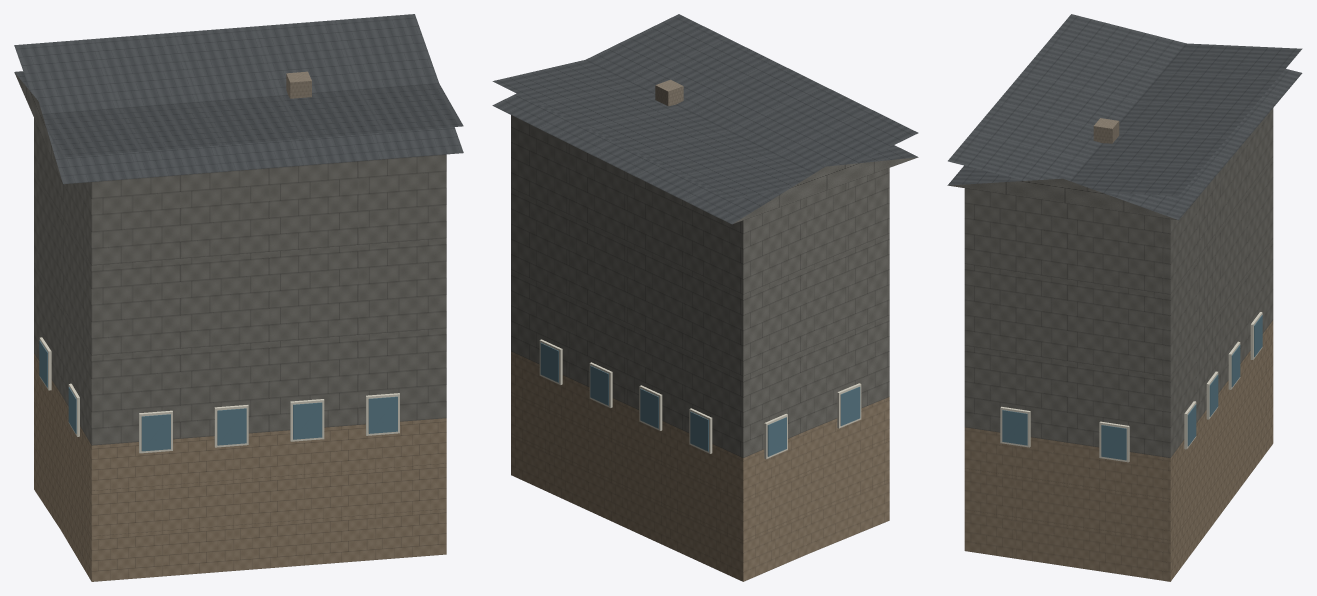
Rendered from core_0062.gltf.
3 views of the same model, side by side, from view 1: azimuth 30°, elevation 25°; view 2: azimuth 150°, elevation 25°; view 3: azimuth 270°, elevation 25° (orthographic). The views are drawn at different scales.
Parts seen in each view (by area): view 1: core_0062; view 2: core_0062; view 3: core_0062.
Boxes of the visible parts, box(x1,y1,x2,y2) form: core_0062: box(14, 14, 463, 581); core_0062: box(492, 14, 918, 581); core_0062: box(947, 14, 1302, 581).
Size of the model in its own units: 16.08 by 16.35 by 13.26.
6 materials, 6 textured.
